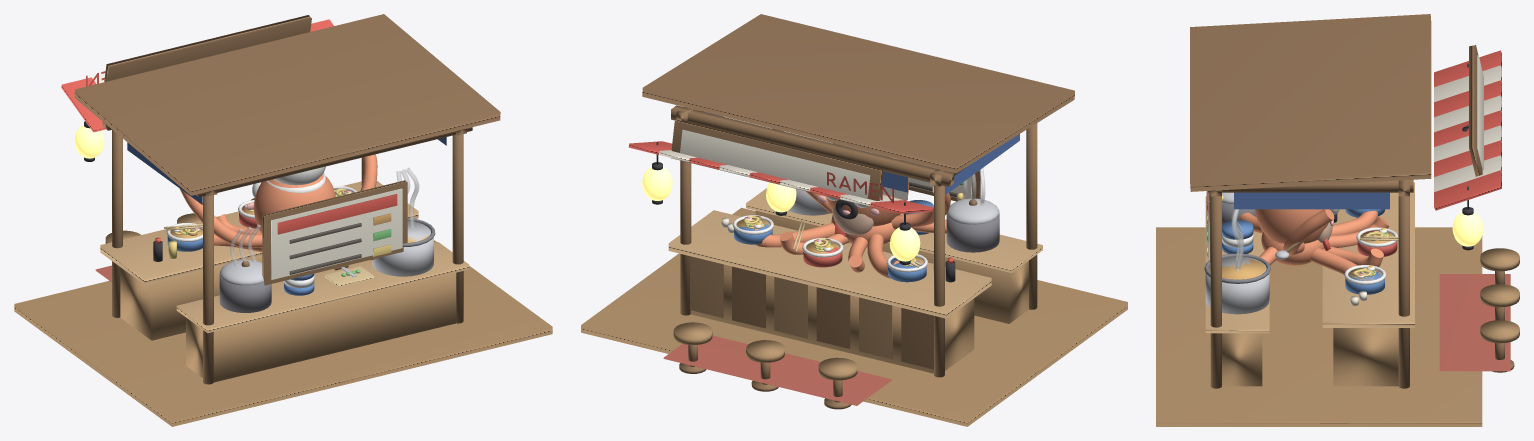
File: octopus_ramen_booth.glb
3 views of the same model, side by side, from view 1: azimuth 30°, elevation 25°; view 2: azimuth 150°, elevation 25°; view 3: azimuth 270°, elevation 25° (orthographic). The views are drawn at different scales.
Parts seen in each view (by area): view 1: Roof, Deck, BackCounter, MenuPaperBack, BackTop, CounterTop, CounterBase, SignBoard, MenuFrame, Post_-2.1_-1.65, Post_2.1_-1.65, OctoHead (+12 smaller); view 2: Roof, Deck, CounterTop, Mat, CounterBase, SignPaper, BeamFront, BackCounter, BackTop, SignBoard, Post_-2.1_1.0, Post_-2.1_-1.65 (+24 smaller); view 3: Roof, Deck, Mat, CounterTop, CounterBase, SideNoren2.05, Post_2.1_-1.65, BackCounter, Post_2.1_1.0, Pot, BackTop, OctoHead (+30 smaller).
Boxes of the visible parts, <box> form: Roof: <box>74,14,500,195</box>; Deck: <box>14,240,552,426</box>; BackCounter: <box>186,272,456,382</box>; MenuPaperBack: <box>271,188,402,279</box>; BackTop: <box>176,242,469,333</box>; CounterTop: <box>100,181,418,284</box>; CounterBase: <box>120,256,262,340</box>; SignBoard: <box>104,15,311,81</box>; MenuFrame: <box>262,180,407,285</box>; Post_-2.1_-1.65: <box>203,195,213,384</box>; Post_2.1_-1.65: <box>452,134,463,323</box>; OctoHead: <box>253,174,335,233</box>; Roof: <box>642,14,1074,173</box>; Deck: <box>581,207,1127,426</box>; CounterTop: <box>668,210,991,318</box>; Mat: <box>663,335,891,405</box>; CounterBase: <box>690,264,974,373</box>; SignPaper: <box>680,129,870,198</box>; BeamFront: <box>671,105,954,187</box>; BackCounter: <box>755,211,1028,323</box>; BackTop: <box>746,188,1042,272</box>; SignBoard: <box>671,120,883,207</box>; Post_-2.1_1.0: <box>934,185,944,377</box>; Post_-2.1_-1.65: <box>1026,123,1037,309</box>; Roof: <box>1190,14,1431,191</box>; Deck: <box>1156,227,1482,426</box>; Mat: <box>1439,274,1510,371</box>; CounterTop: <box>1322,182,1414,327</box>; CounterBase: <box>1333,328,1398,386</box>; SideNoren2.05: <box>1234,192,1389,209</box>; Post_2.1_-1.65: <box>1210,196,1221,388</box>; BackCounter: <box>1222,333,1262,386</box>; Post_2.1_1.0: <box>1398,196,1409,388</box>; Pot: <box>1205,256,1269,314</box>; BackTop: <box>1205,196,1269,333</box>; OctoHead: <box>1254,209,1328,243</box>.
Size of what is drawn, in the model's own units: 6.4 by 3.72 by 5.13.
